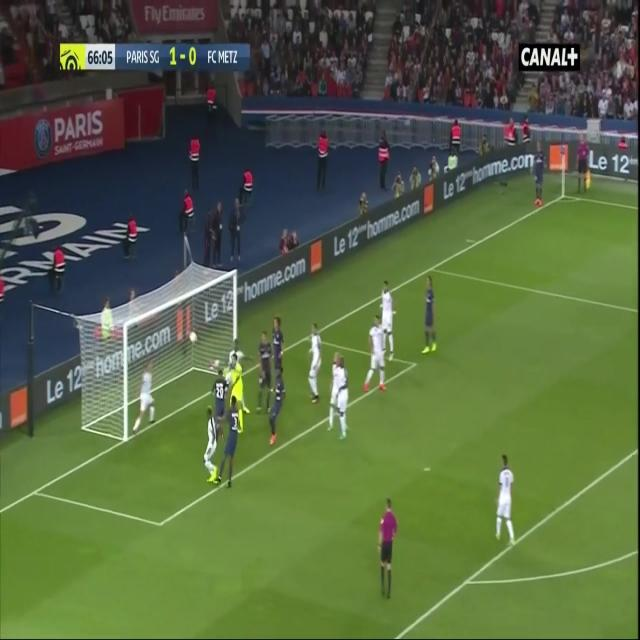Ball: (187, 327, 201, 347)
Goalkeeper: (229, 352, 246, 437)
Player: (493, 452, 518, 548), (361, 314, 389, 396), (216, 397, 238, 497), (130, 358, 158, 436), (266, 365, 286, 450), (254, 330, 272, 414), (378, 279, 396, 363), (306, 322, 323, 405), (422, 271, 438, 357), (202, 405, 218, 487), (326, 347, 340, 437), (210, 364, 227, 425), (338, 356, 350, 442), (270, 311, 284, 377), (533, 140, 545, 210)
Referee: (379, 498, 399, 604), (575, 133, 589, 192)
